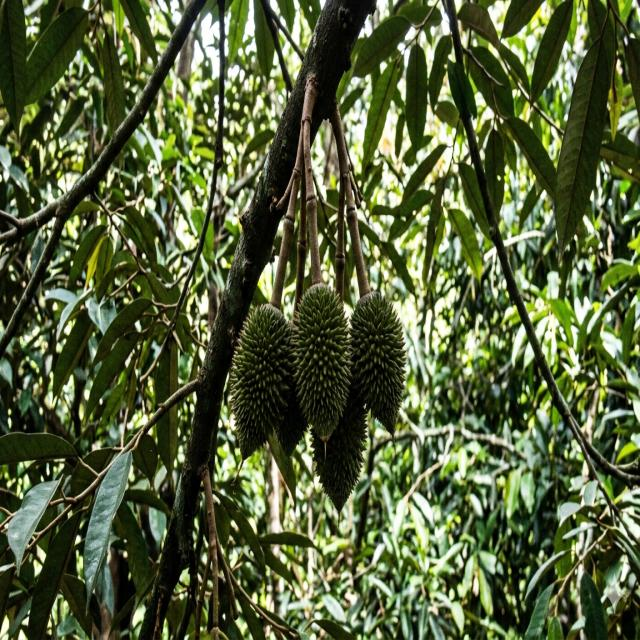immature: (229, 300, 298, 458), (290, 280, 353, 441), (346, 289, 407, 436), (313, 394, 372, 511)
